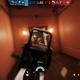Character: (38, 40, 45, 48)
Friend_label: (26, 43, 28, 46)
Head: (40, 41, 42, 42)
